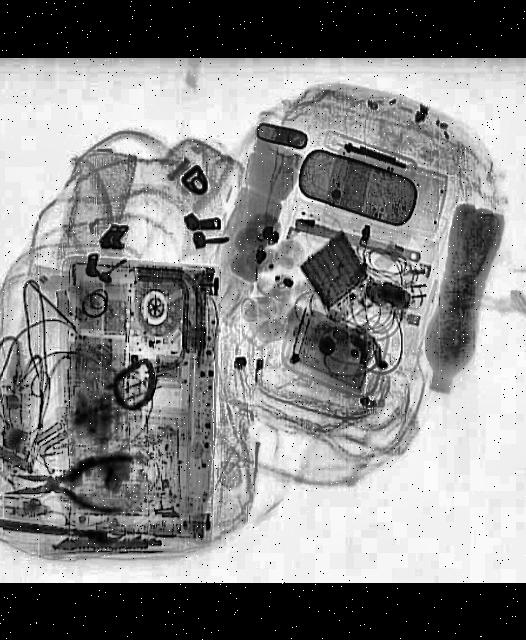Pliers: (4, 450, 130, 512)
